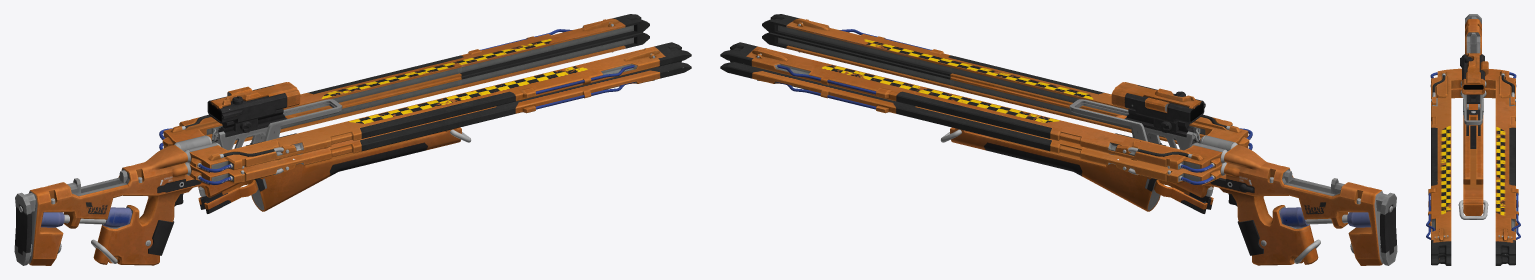
Rendered from karma.fbx.
3 views of the same model, side by side, from view 1: azimuth 30°, elevation 25°; view 2: azimuth 150°, elevation 25°; view 3: azimuth 270°, elevation 25° (orthographic). The views are drawn at different scales.
Visible parts, largest first — view 1: WP_SniperRifle_Alpha01_SK.001; view 2: WP_SniperRifle_Alpha01_SK.001; view 3: WP_SniperRifle_Alpha01_SK.001.
Part boxes in pixels (x1,y1,x2,y2): WP_SniperRifle_Alpha01_SK.001: (14, 14, 691, 265); WP_SniperRifle_Alpha01_SK.001: (720, 14, 1397, 265); WP_SniperRifle_Alpha01_SK.001: (1426, 14, 1520, 265).
Size of the model in its own units: 114 by 25.04 by 18.86.
